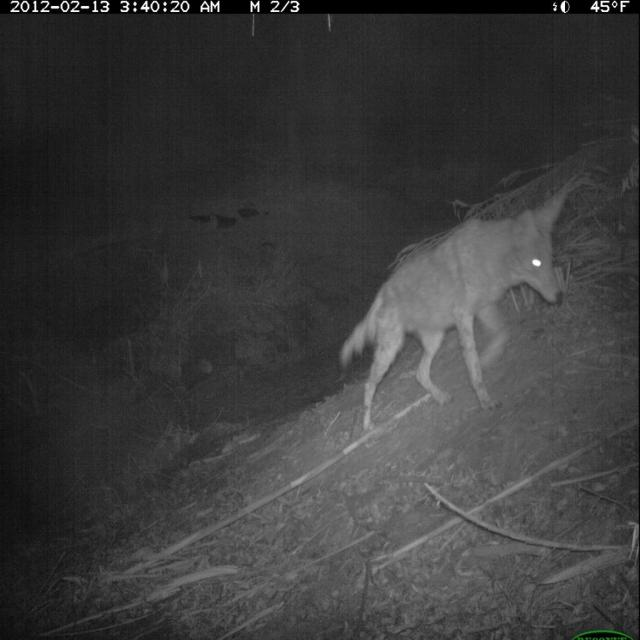coyote: (334, 184, 574, 437)
